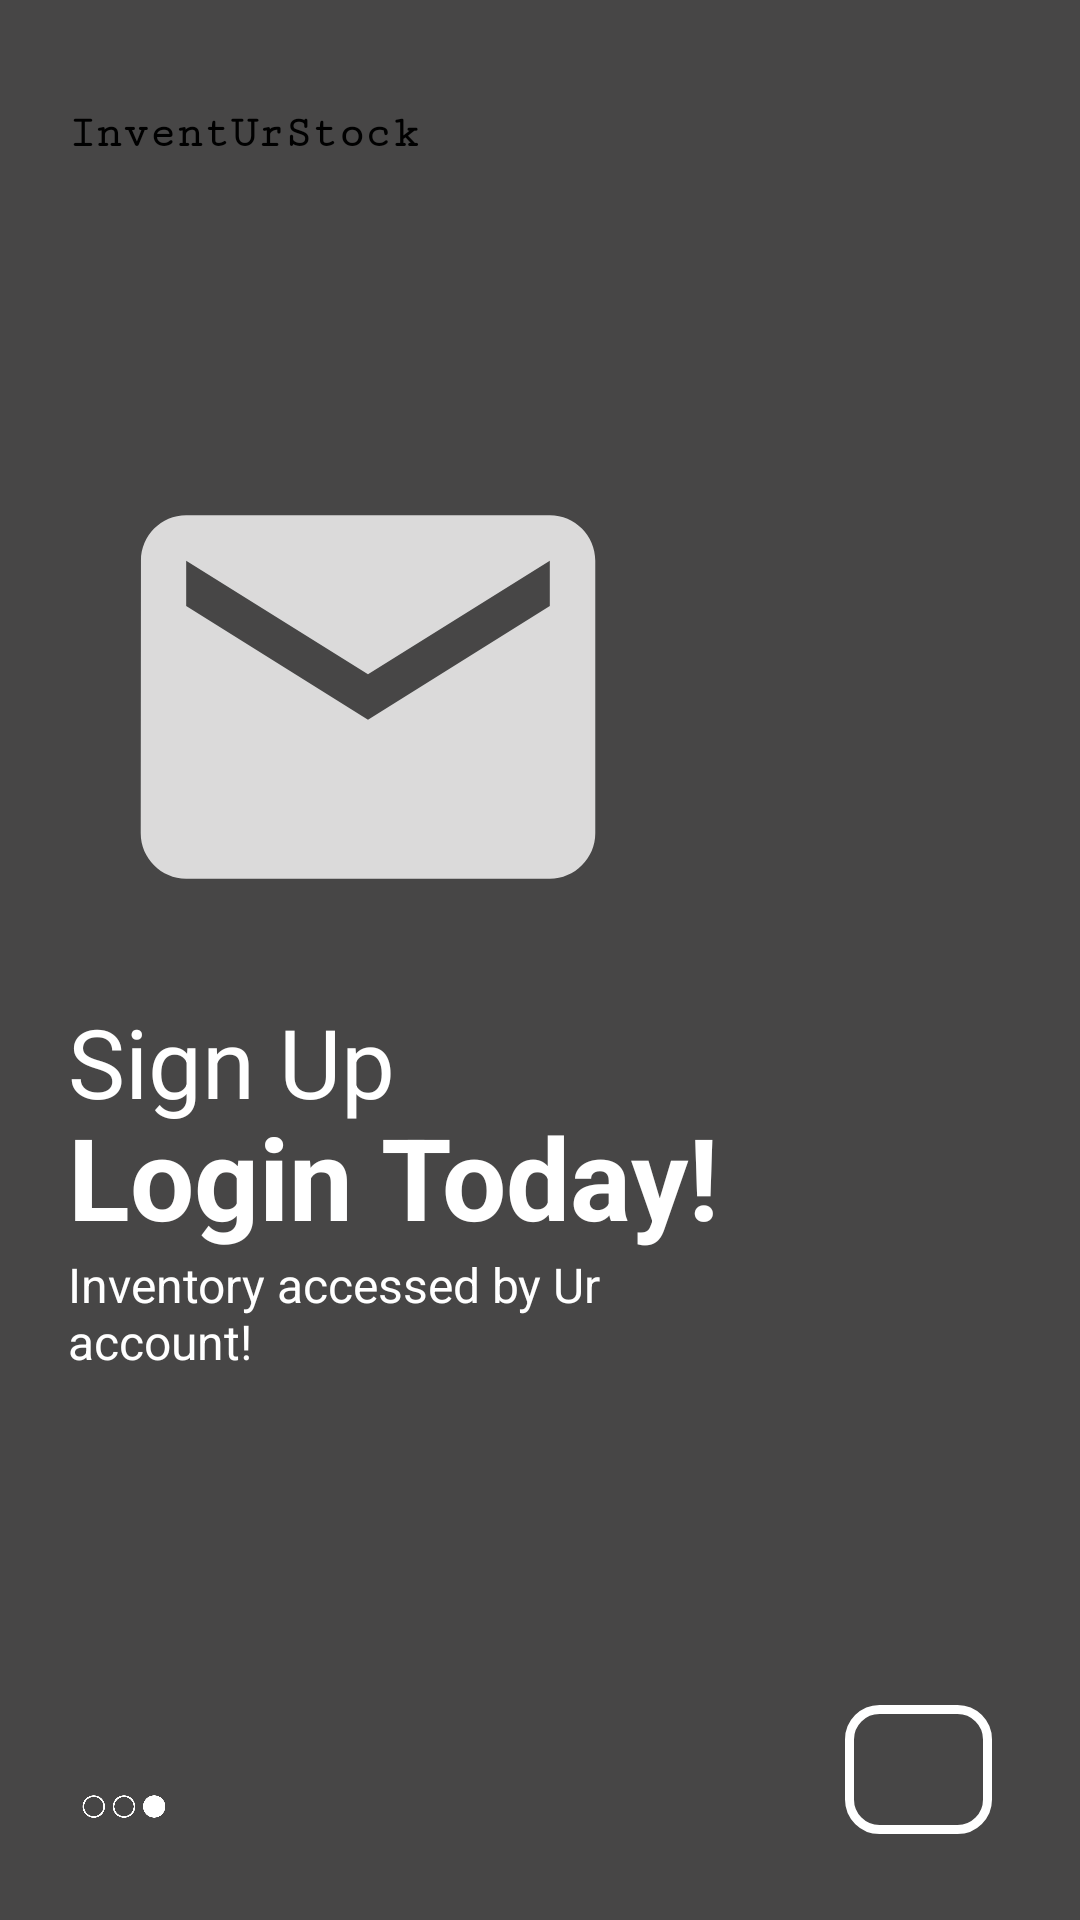

Where icons sit on this 1080x1920 app screen, as (x1, y1, x2, y2):
tab3: (82, 1795, 165, 1818)
whiteoutline nofill: (845, 1705, 992, 1834)
